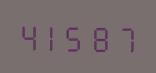eight: (90, 20, 113, 53)
five: (66, 19, 89, 53)
four: (18, 18, 41, 52)
one: (42, 19, 65, 52)
seven: (114, 20, 137, 54)
